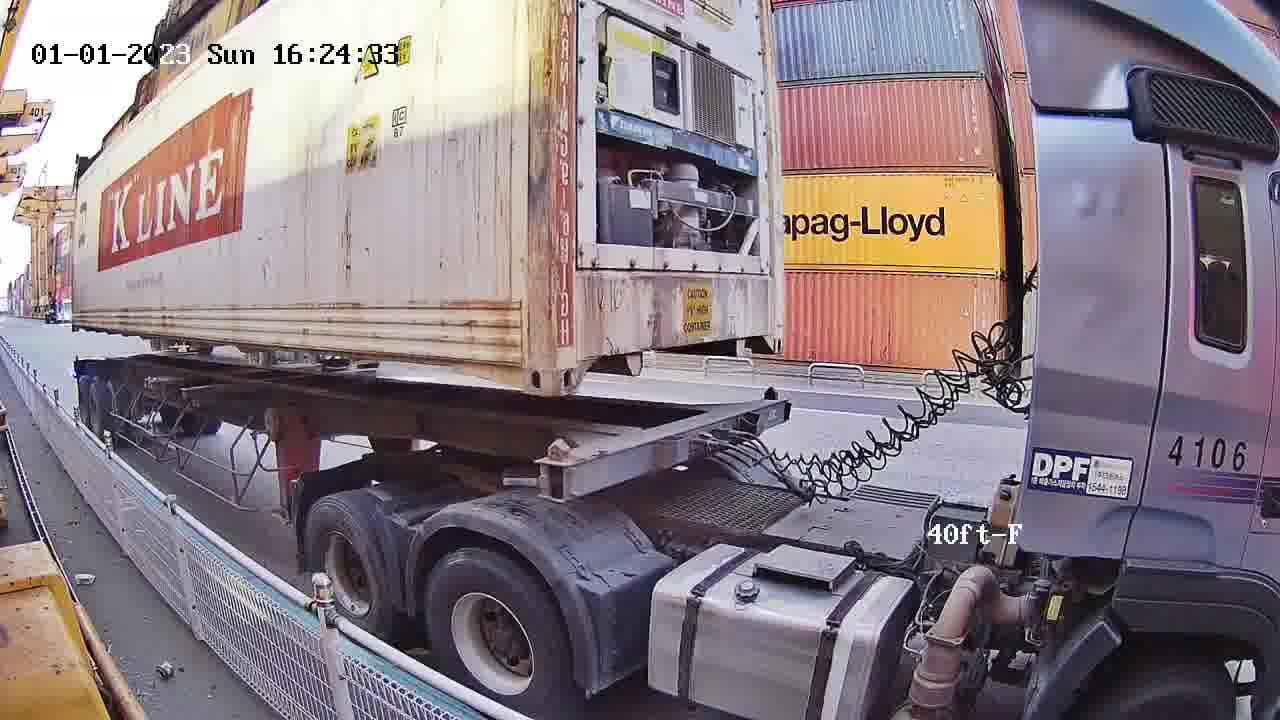Chassis: (536, 397, 787, 501)
Cone: (537, 436, 572, 502), (758, 385, 783, 427)
Hole_L: (552, 332, 601, 396)
Hole_R: (497, 330, 553, 398), (749, 308, 785, 357)
Tire: (423, 549, 572, 718), (302, 498, 392, 632)
